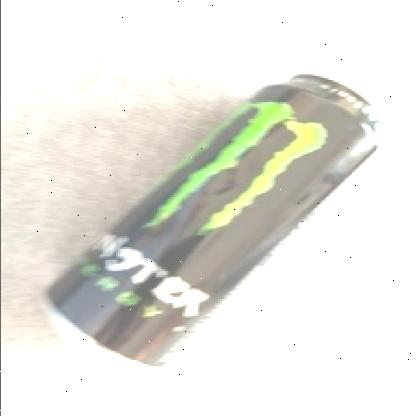Can: (37, 72, 389, 372)
